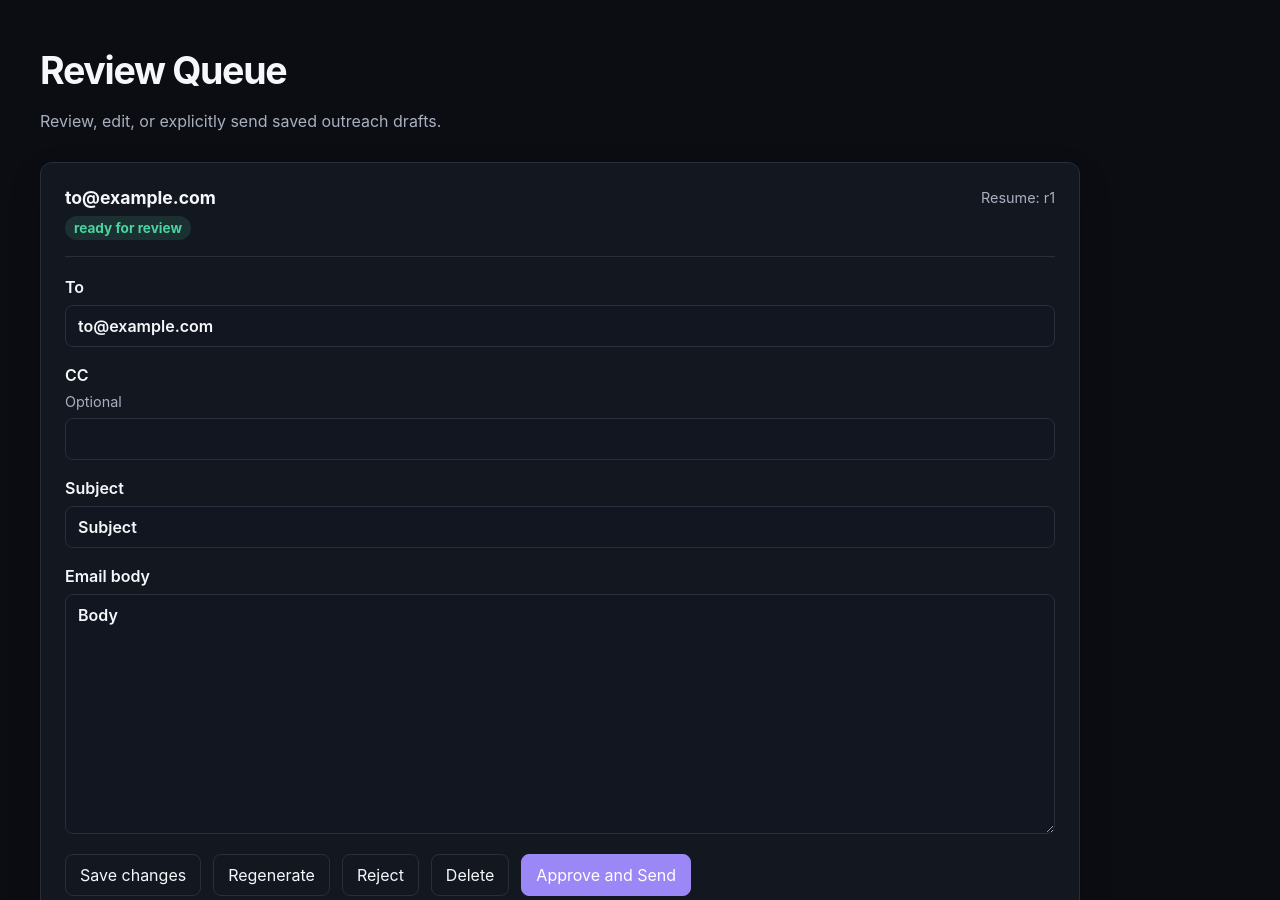
it: permanently deletes through the outreach endpoint only after confirmation
What coordinates should you click on to do the following:
click the button "Delete"
I would click on:
 (470, 875)
Its box is [431, 854, 509, 896].
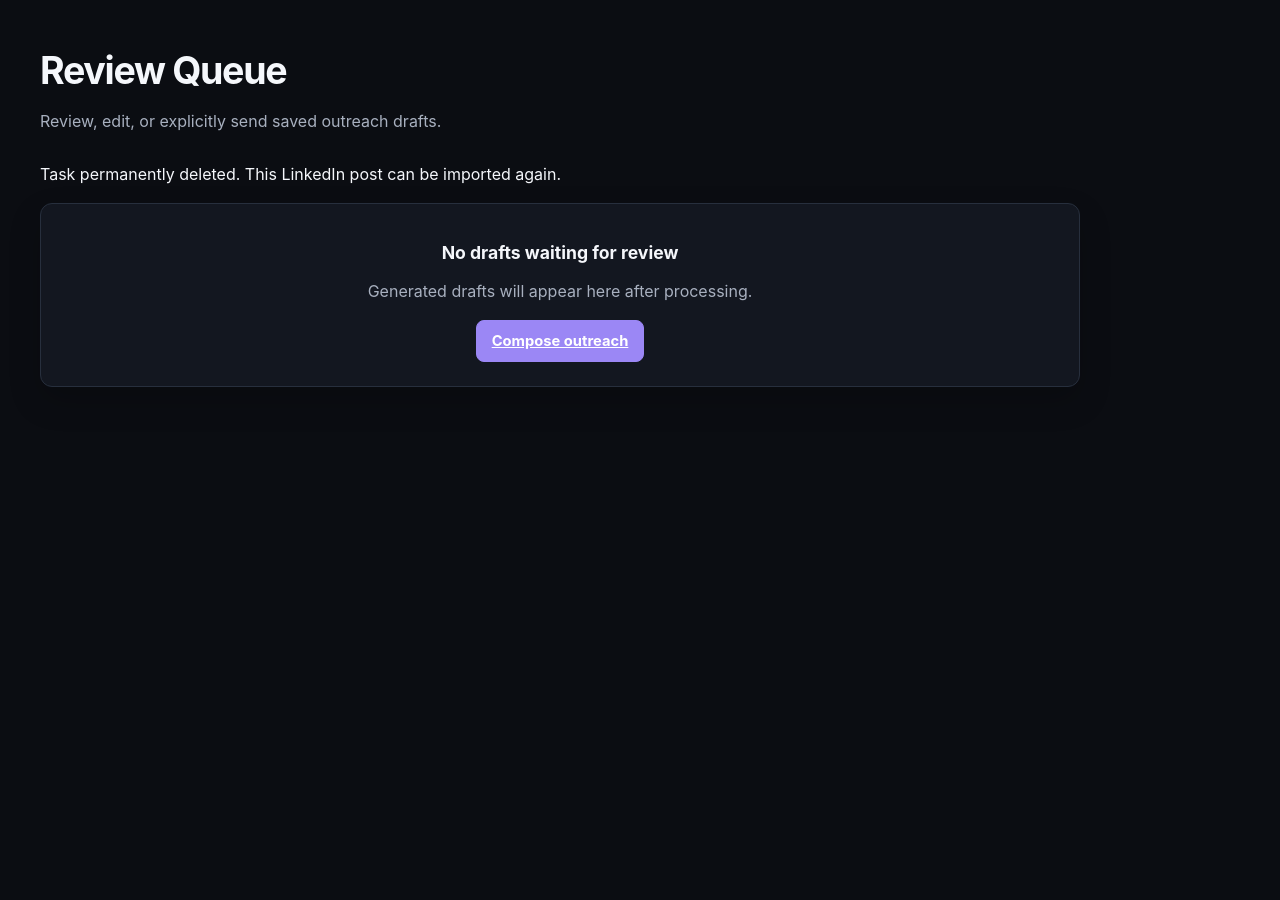
expect the text "Task permanently deleted. This LinkedIn post can be imported again." is shown: met, box [40, 164, 561, 184]
